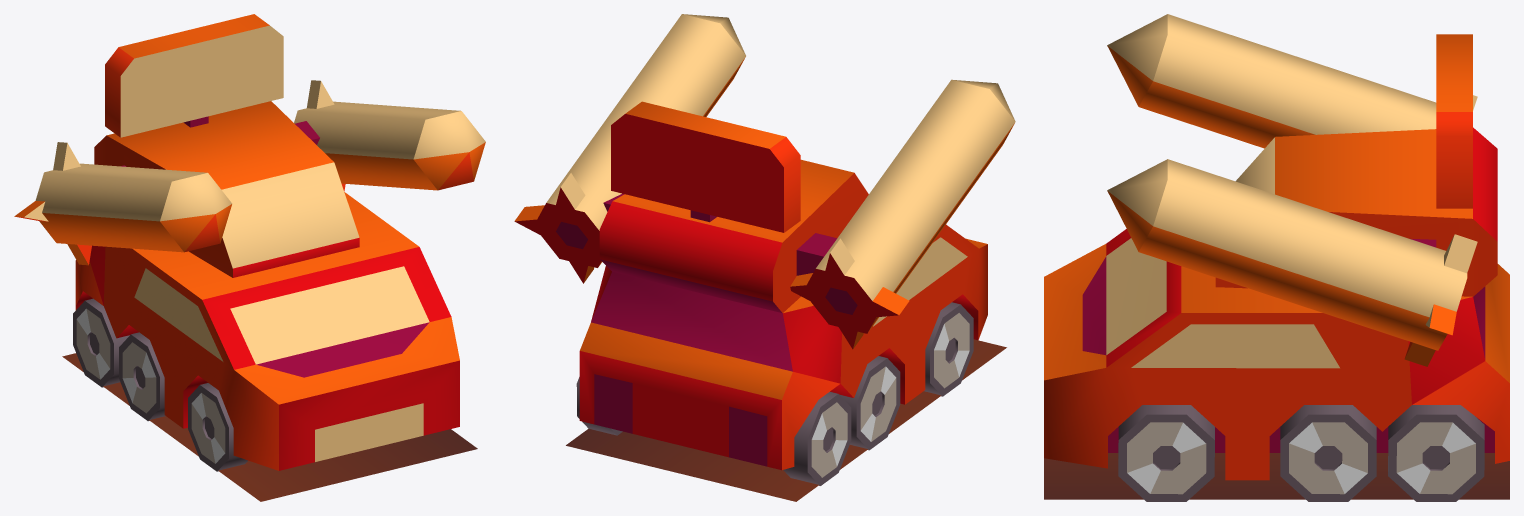
The model's file is MissileMesh.OrangeStar.glb.
3 views of the same model, side by side, from view 1: azimuth 30°, elevation 25°; view 2: azimuth 150°, elevation 25°; view 3: azimuth 270°, elevation 25° (orthographic). The views are drawn at different scales.
Visible parts, largest first — view 1: MissileMesh.OrangeStar; view 2: MissileMesh.OrangeStar; view 3: MissileMesh.OrangeStar.
Boxes of the visible parts, <box> form: MissileMesh.OrangeStar: <box>14,14,485,501</box>; MissileMesh.OrangeStar: <box>514,14,1015,501</box>; MissileMesh.OrangeStar: <box>1044,14,1509,501</box>.
Size of the model in its own units: 2 by 1.65 by 1.9.
1 material, 1 textured.
